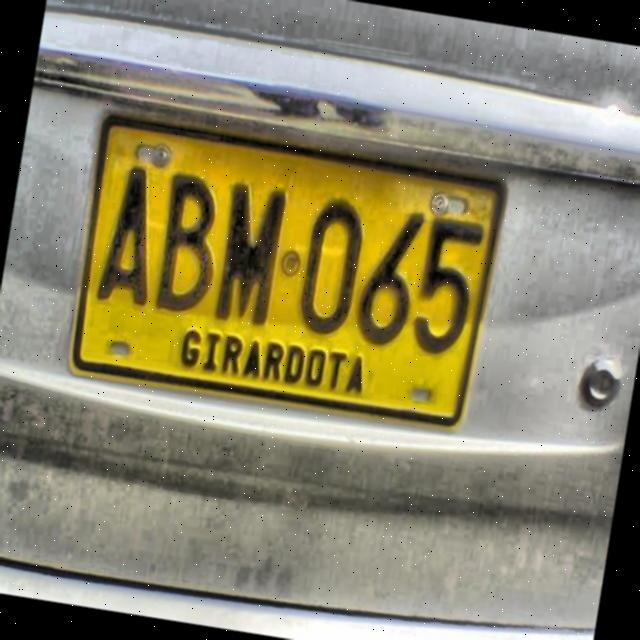0: (290, 190, 374, 344)
5: (408, 214, 487, 362)
6: (349, 200, 428, 354)
A: (92, 160, 172, 316)
B: (147, 167, 232, 324)
M: (208, 178, 292, 336)
